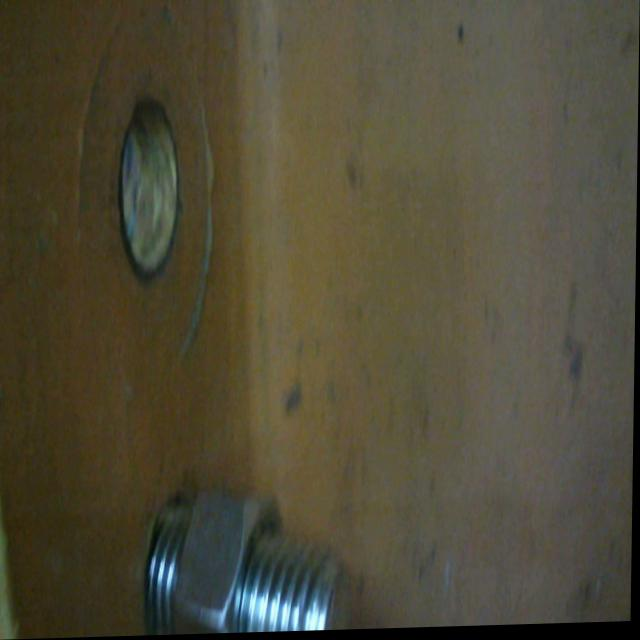Loose bolt: (149, 477, 358, 635)
Missing bolt: (116, 91, 185, 286)
Regular bolt: (157, 486, 343, 637)
